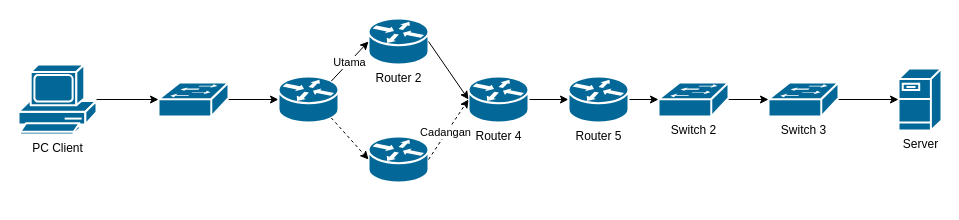
The diagram is 959 pixels wide and 220 high, and some of its shapes have lost their labels. Each missing label, with the centre of its shape:
Router 1: [308,99]
Router 3: [398,159]
Switch 1: [193,99]
